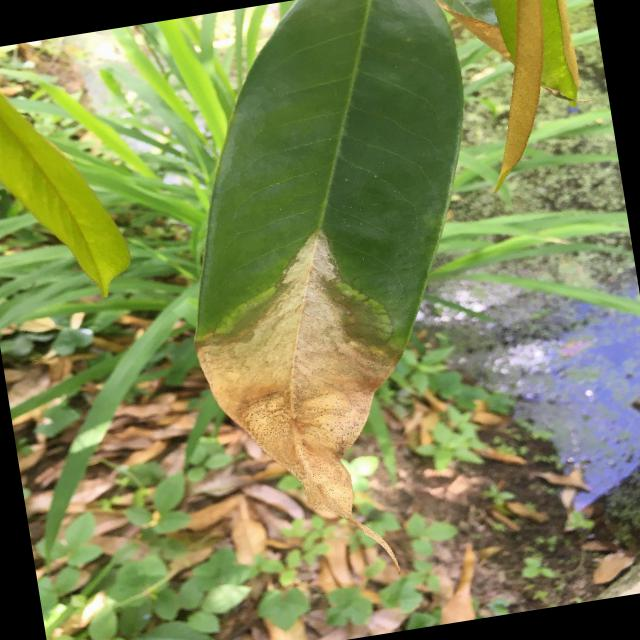Leaf Blight: (139, 0, 536, 545)
